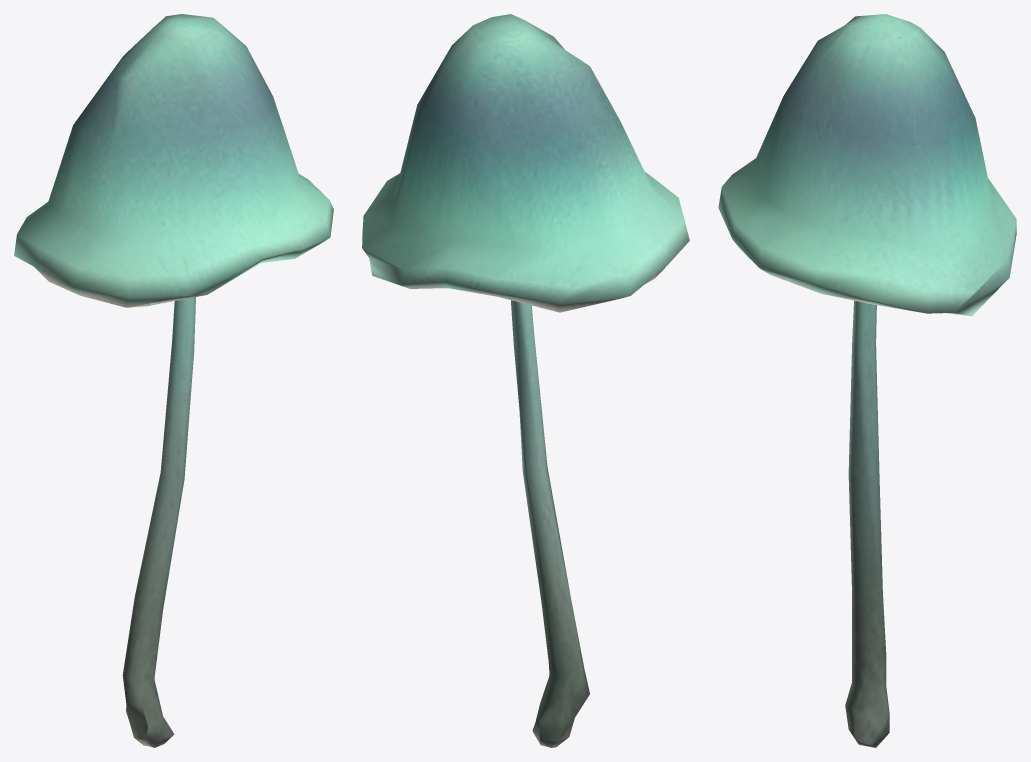
Rendered from fungus-teal-small-c.gltf.
3 views of the same model, side by side, from view 1: azimuth 30°, elevation 25°; view 2: azimuth 150°, elevation 25°; view 3: azimuth 270°, elevation 25° (orthographic). The views are drawn at different scales.
Parts seen in each view (by area): view 1: fungus-teal-small-c; view 2: fungus-teal-small-c; view 3: fungus-teal-small-c.
Part boxes in pixels (x1,y1,x2,y2): fungus-teal-small-c: (14,14,333,747); fungus-teal-small-c: (362,14,689,747); fungus-teal-small-c: (718,14,1016,747).
Size of the model in its own units: 0.2441 by 0.5859 by 0.2124.
1 material, 1 textured.
